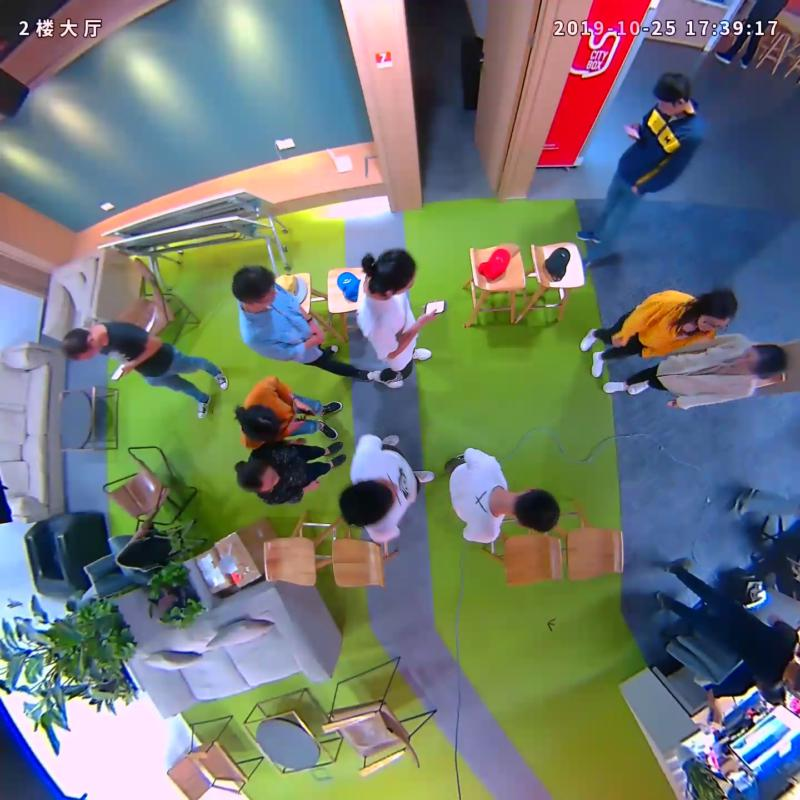head: (338, 479, 399, 525), (369, 249, 416, 301), (509, 488, 560, 534), (231, 265, 277, 308), (695, 287, 737, 333), (735, 343, 789, 378), (236, 405, 282, 443), (653, 72, 689, 117), (236, 458, 281, 493), (62, 326, 103, 361)
